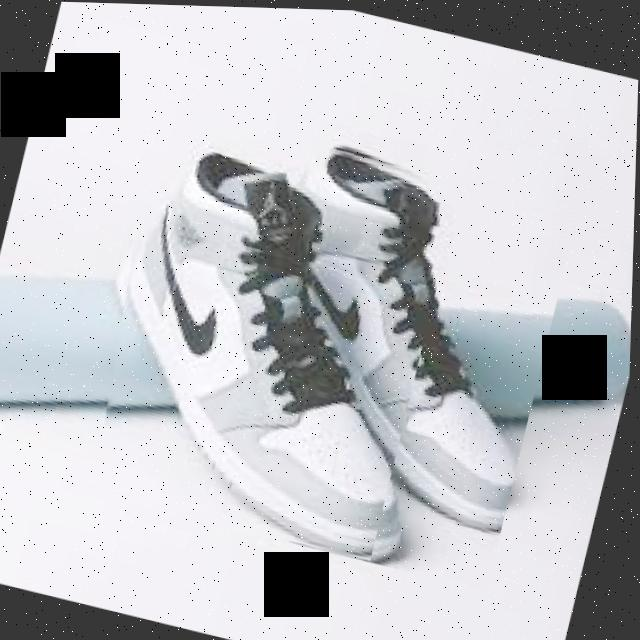shoe: (64, 96, 584, 590), (71, 129, 459, 560)
